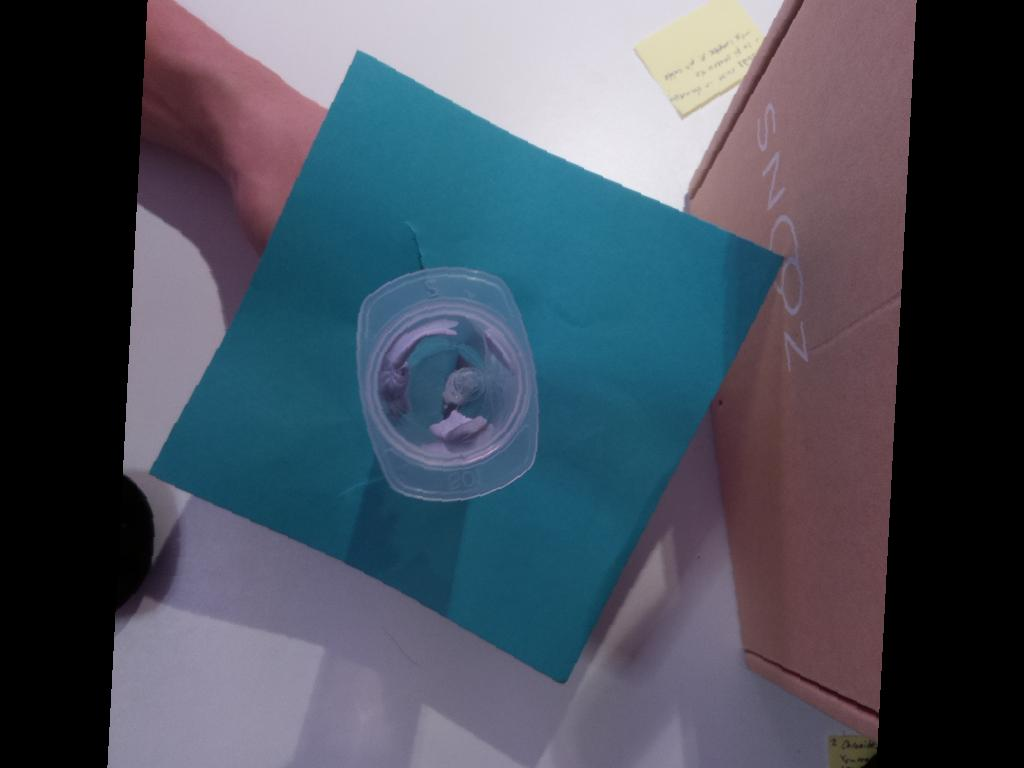dirty: (353, 257, 554, 510)
